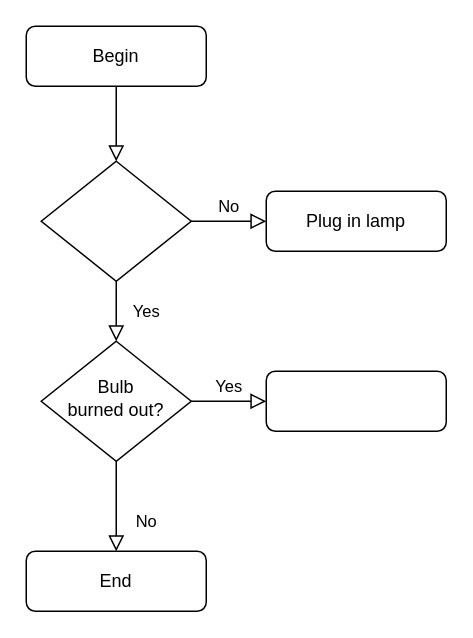
This 473x638 diagram has some shape labels left out. The centre of each missing label's shape, as x and y in pixels:
Lamp plugged in?: point (115, 220)
Replace Bulb: point (355, 400)
